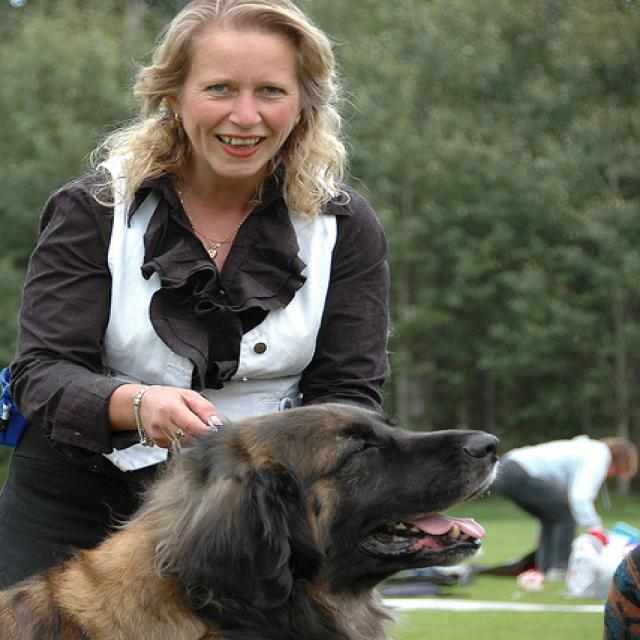dog-leonberger: (1, 397, 510, 637)
